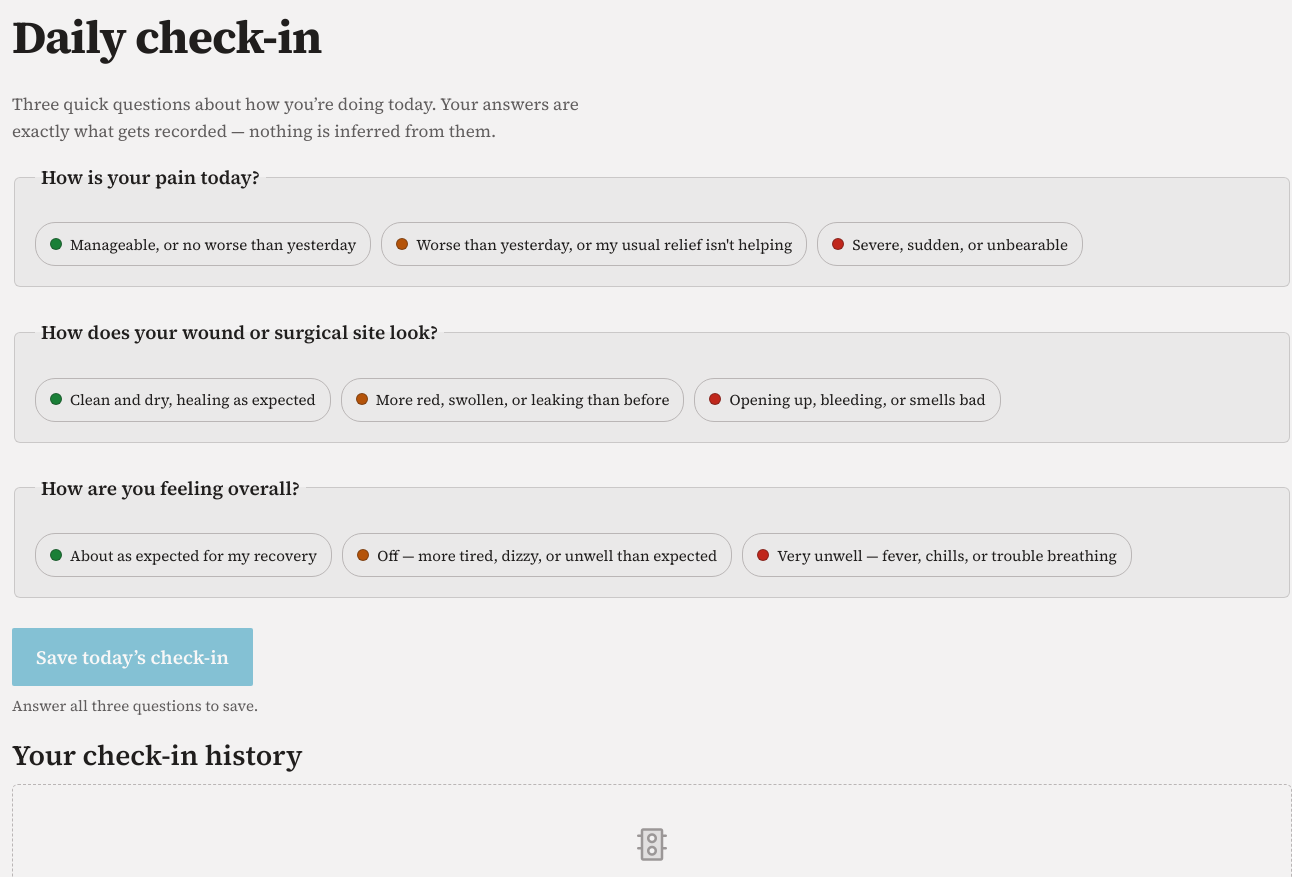
Test: CheckIn screen › reports red when the worst answer is red
Click the button "Manageable, or no worse than yesterday": (203, 244) [35,222,371,266]
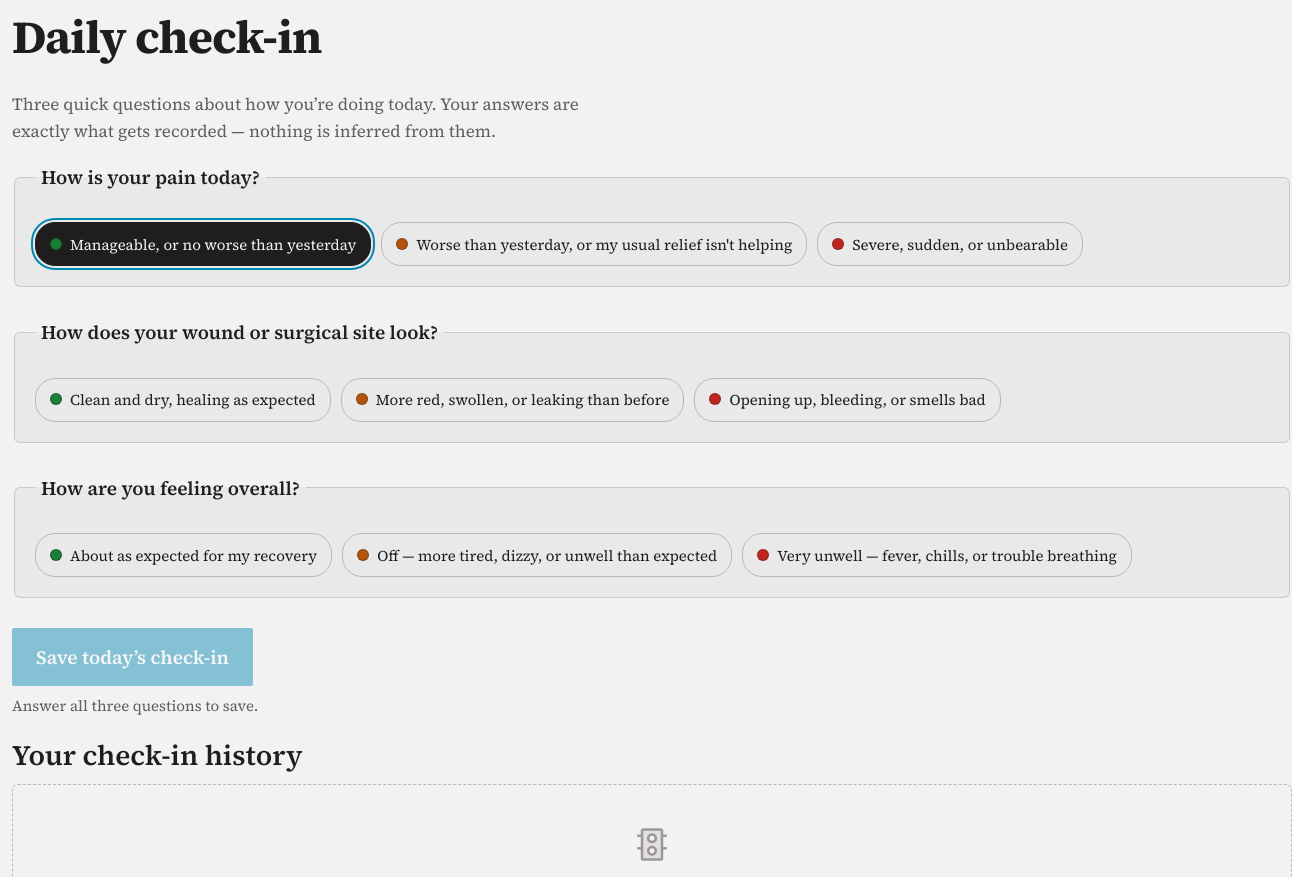
Click the button "More red, swollen, or leaking than before": (513, 400) [341,378,684,422]
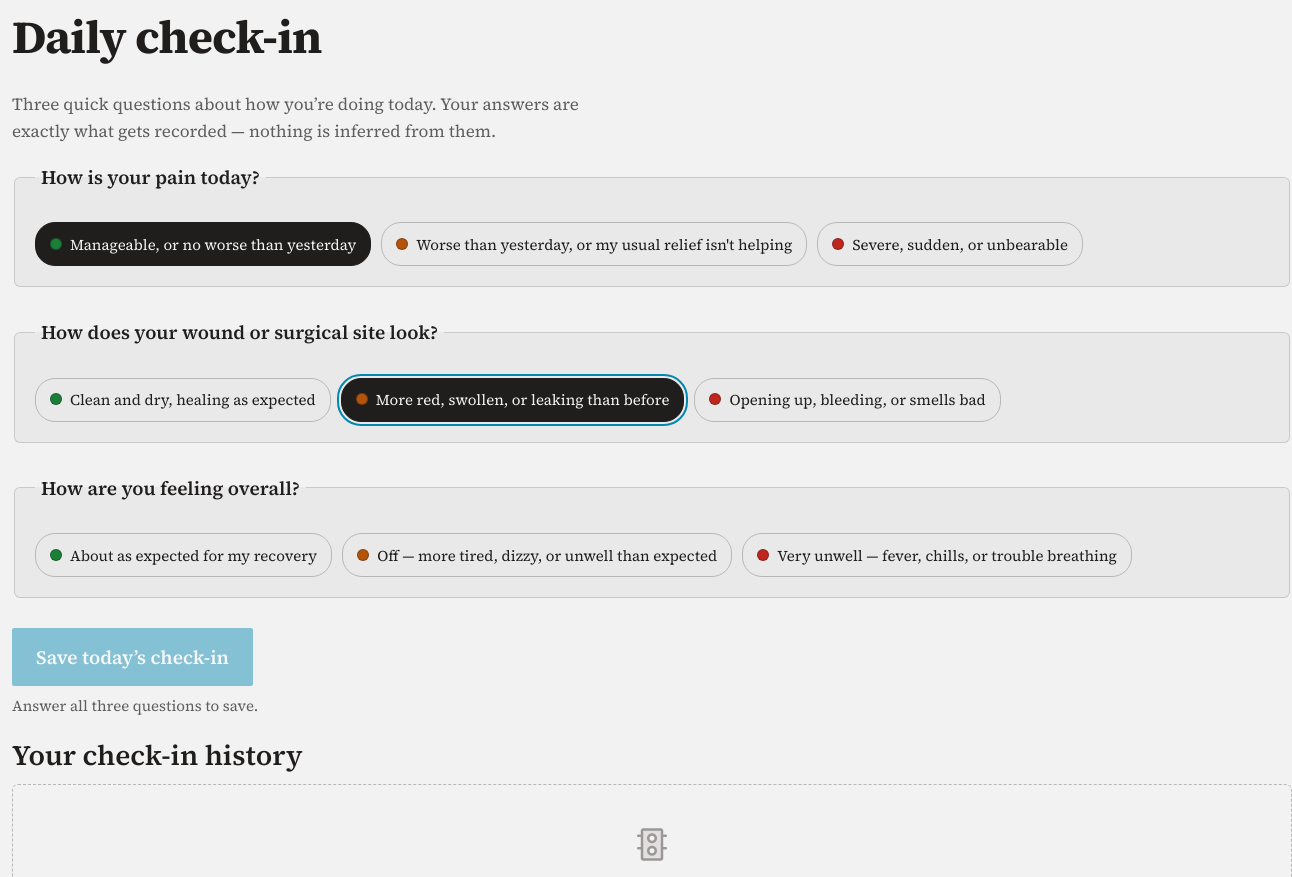
Click the button "Very unwell — fever, chills, or trouble breathing": (937, 555) [742,533,1132,577]
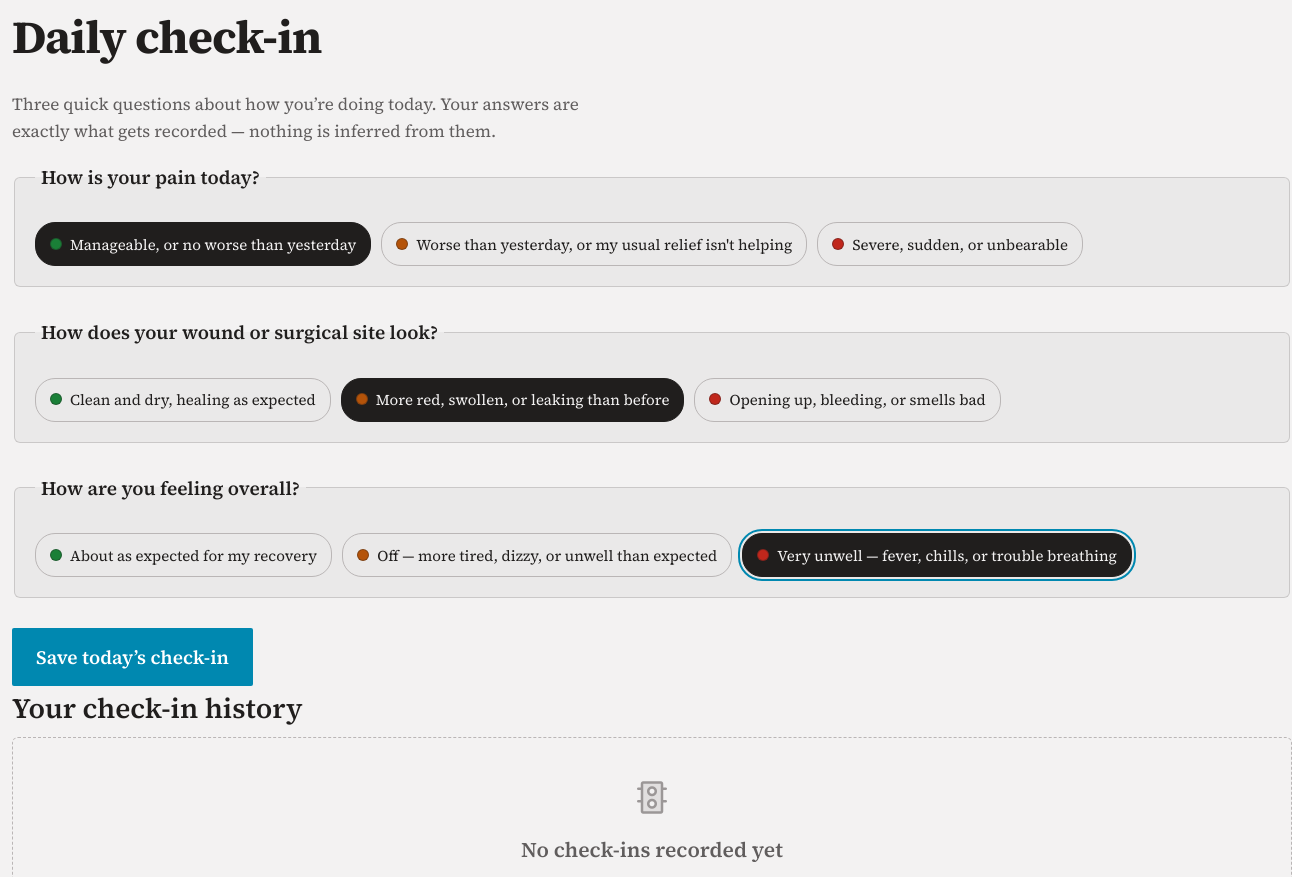
Click the button "Save today’s check-in": (132, 657) [12,628,253,686]
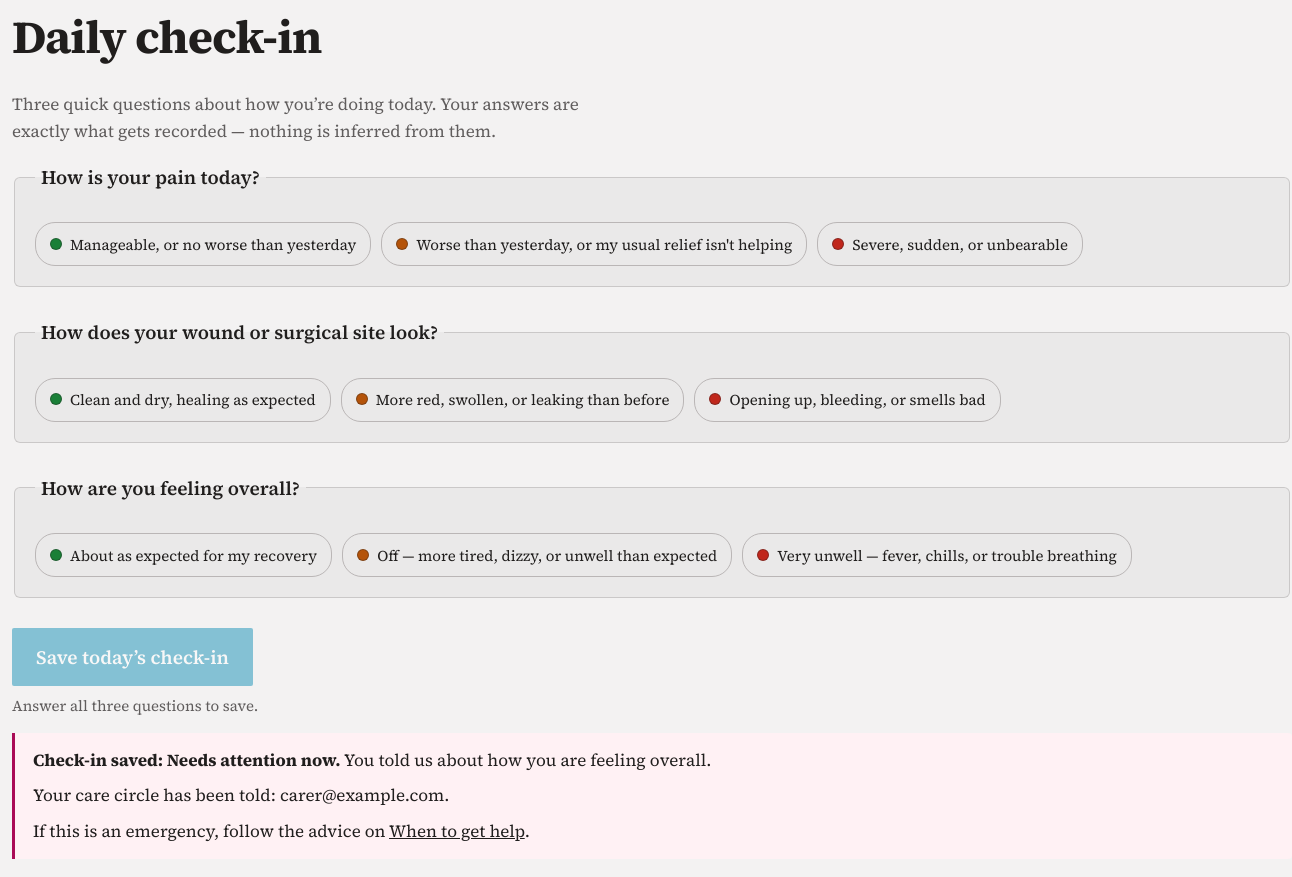
Now the message shows "Needs attention now", box [167,748,335,772]
